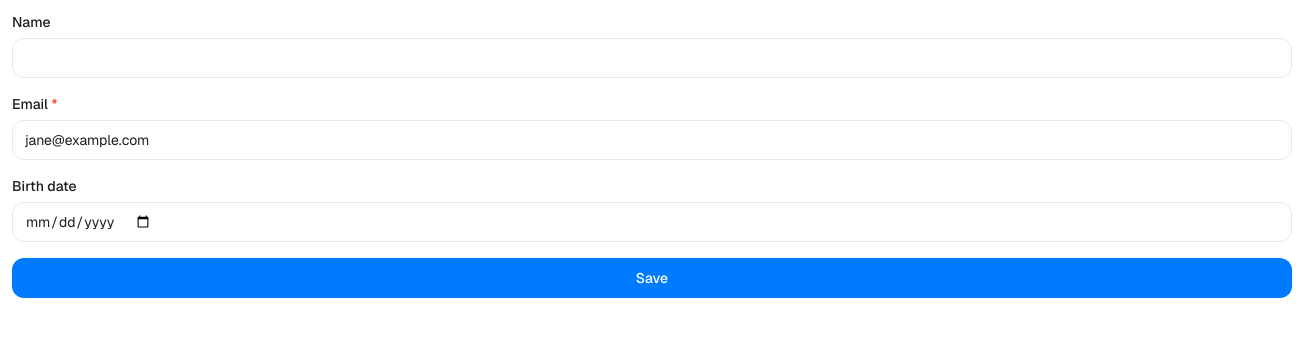
Test: ContactForm › custom field validation › shows error when date field value is not YYYY-MM-DD
The width and height of the screenshot is (1304, 341).
Click the button "Save": [652, 278] box [12, 258, 1292, 298]
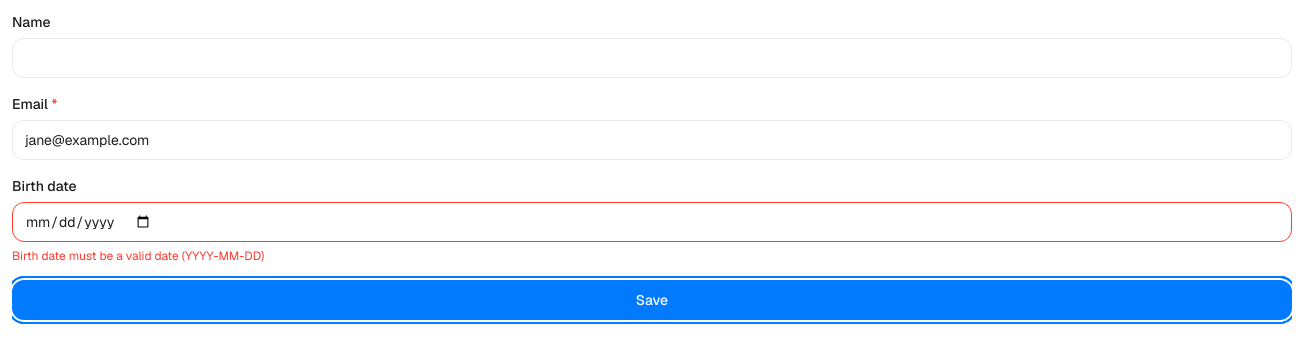
Check: the text "Birth date must be a valid date (YYYY-MM-DD)" is shown, box [12, 248, 264, 264]
